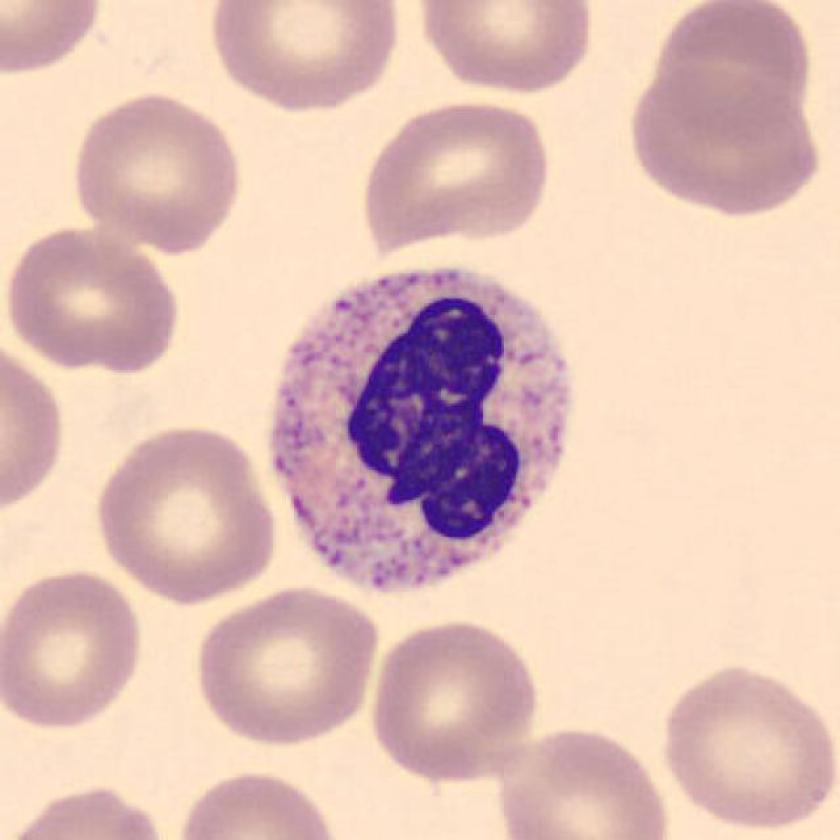neutrophil: (271, 269, 568, 590)
